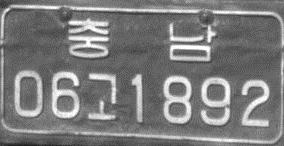0: (12, 69, 43, 119)
1: (124, 72, 154, 123)
2: (240, 79, 269, 128)
6: (50, 70, 79, 119)
8: (162, 75, 192, 125)
9: (199, 76, 231, 126)
고: (86, 71, 118, 121)
충남_D: (67, 17, 216, 62)
